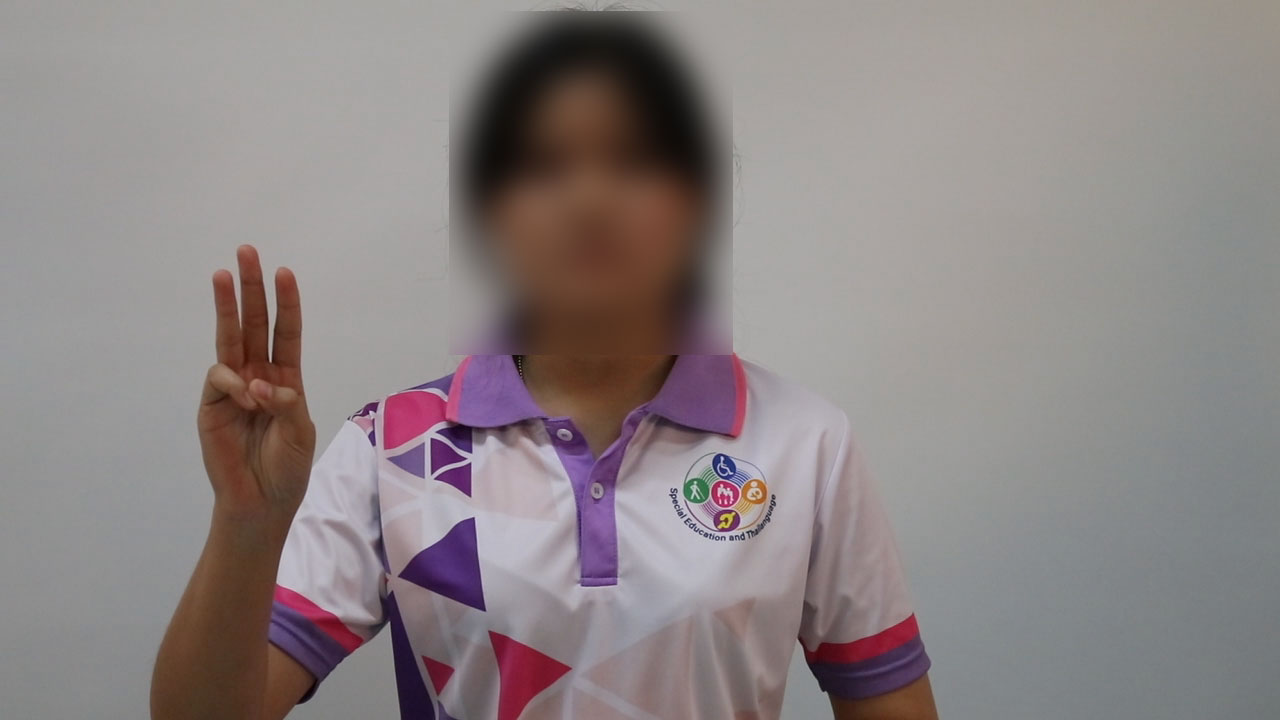wor: (189, 236, 323, 527)
